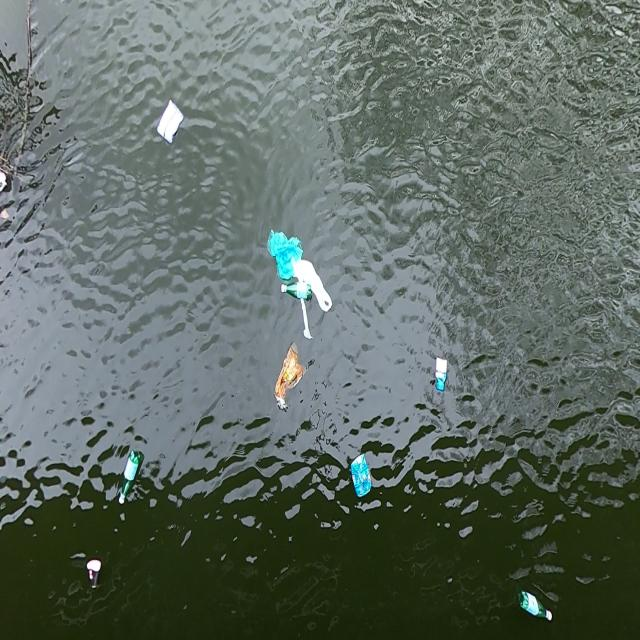Autre plastique: (155, 93, 185, 152)
Bouteille plastique: (118, 448, 144, 510), (518, 586, 555, 624), (278, 280, 312, 304)
Non plastique: (348, 451, 374, 504), (431, 354, 453, 400), (85, 558, 104, 598)
Sac plastique: (272, 342, 310, 417), (291, 257, 338, 312), (265, 227, 304, 281)
